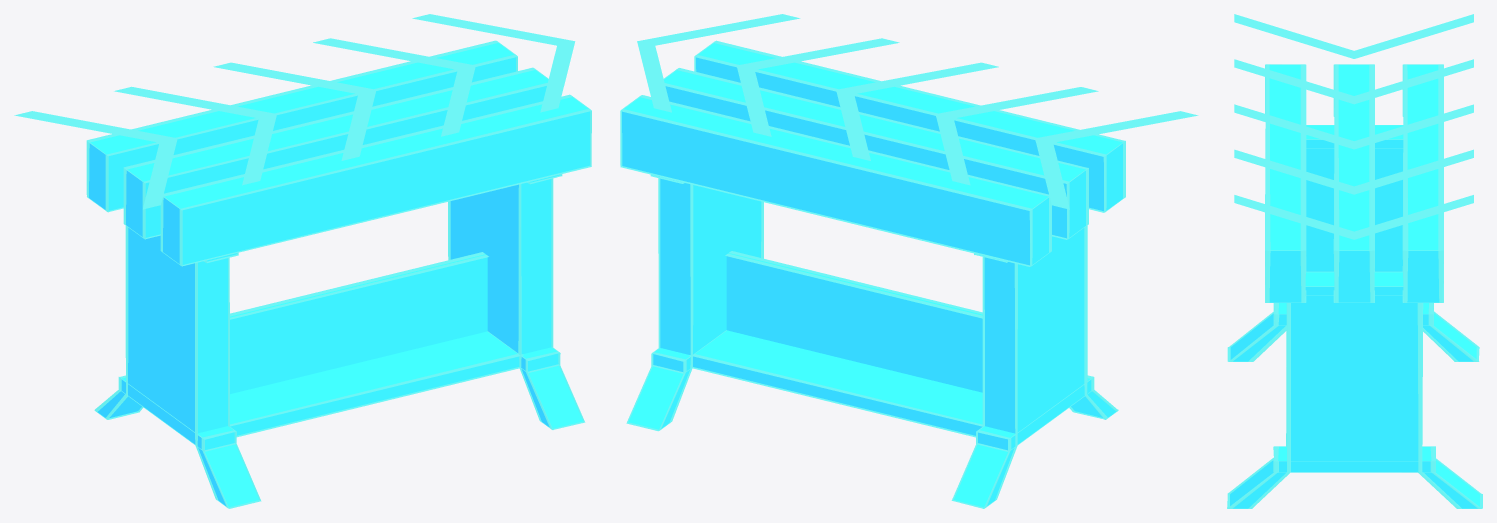
File: connect.fbx
3 renders of one model, left to right at view 1: azimuth 30°, elevation 25°; view 2: azimuth 150°, elevation 25°; view 3: azimuth 270°, elevation 25°, orthographic. The views are drawn at different scales.
Parts seen in each view (by area): view 1: 传送带; view 2: 传送带; view 3: 传送带.
Part boxes in pixels (x1,y1,x2,y2): 传送带: (14, 14, 591, 508); 传送带: (620, 14, 1198, 508); 传送带: (1227, 14, 1482, 508).
Bounding box in the file's own units: 134 × 81.53 × 64.
